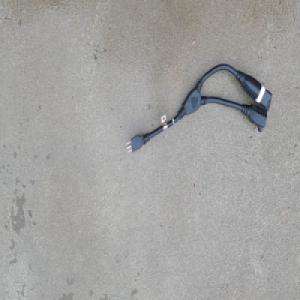Wire: (123, 61, 272, 155)
